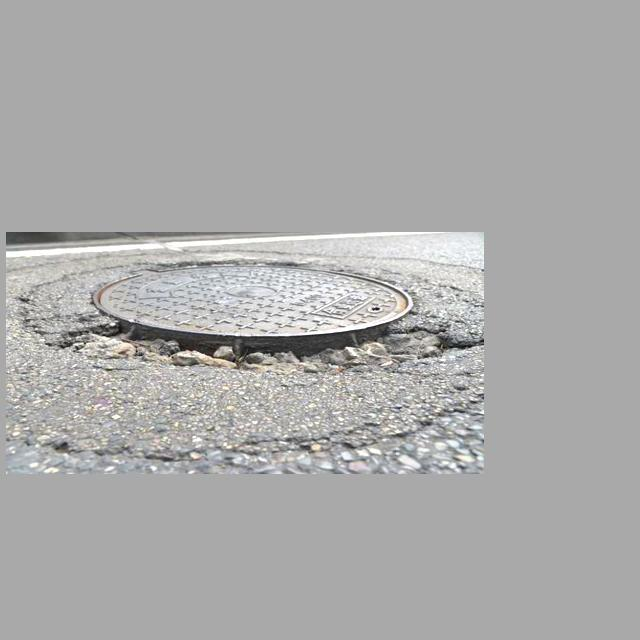circle: (21, 254, 466, 381)
